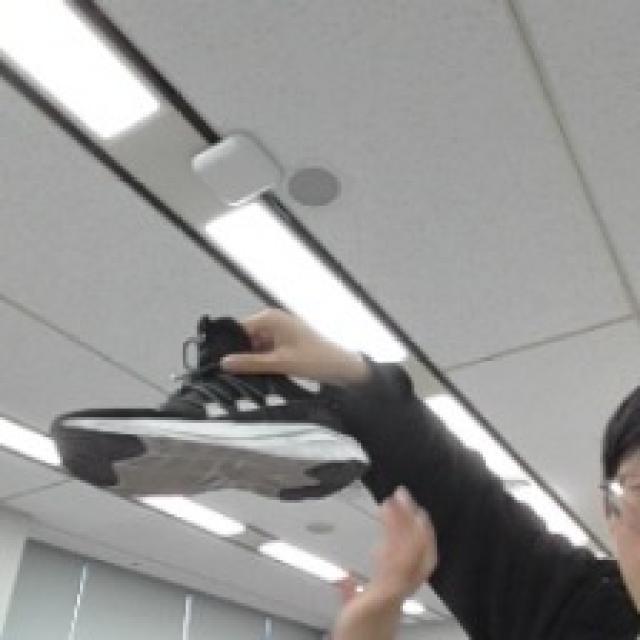shoe: (49, 306, 372, 499)
